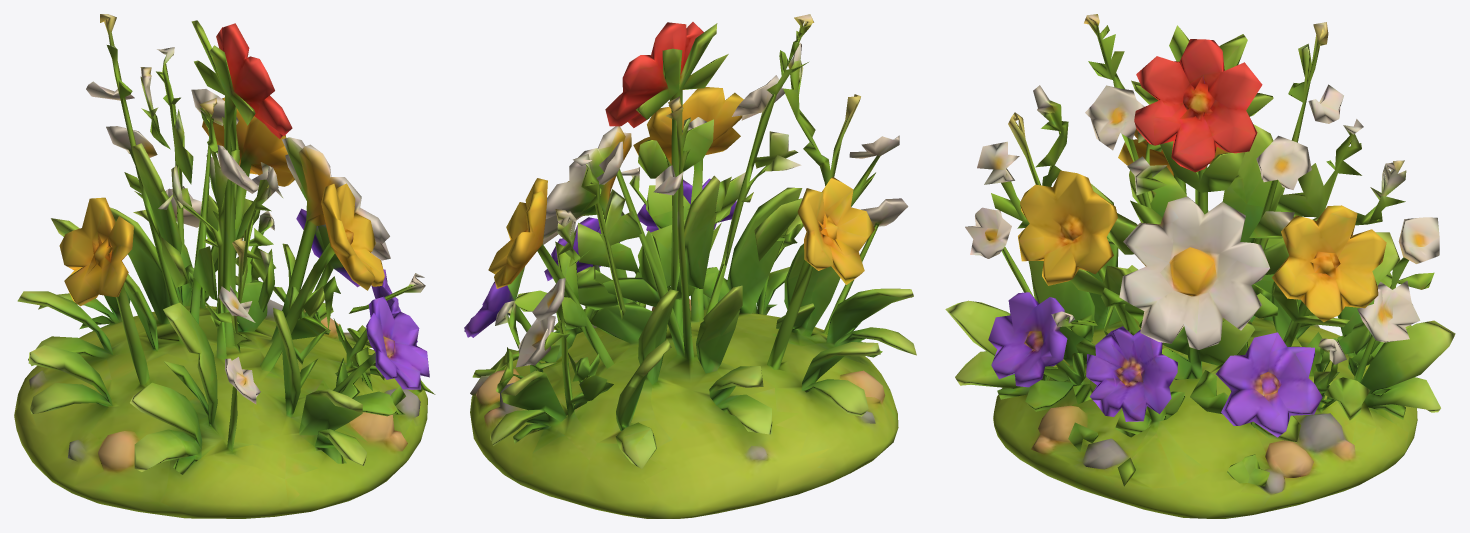
The model's file is flowers.glb.
3 renders of one model, left to right at view 1: azimuth 30°, elevation 25°; view 2: azimuth 150°, elevation 25°; view 3: azimuth 270°, elevation 25°, orthographic. The views are drawn at different scales.
Parts seen in each view (by area): view 1: tripo_node_d26227d5-40fd-42ae-82a2-25233e5a4a32; view 2: tripo_node_d26227d5-40fd-42ae-82a2-25233e5a4a32; view 3: tripo_node_d26227d5-40fd-42ae-82a2-25233e5a4a32.
Part boxes in pixels (<box>): tripo_node_d26227d5-40fd-42ae-82a2-25233e5a4a32: <box>14,14,435,518</box>; tripo_node_d26227d5-40fd-42ae-82a2-25233e5a4a32: <box>464,14,916,518</box>; tripo_node_d26227d5-40fd-42ae-82a2-25233e5a4a32: <box>945,14,1455,518</box>.
Size of the model in its own units: 0.2507 by 0.25 by 0.2916.
Materials: 1 (1 with a texture image).
